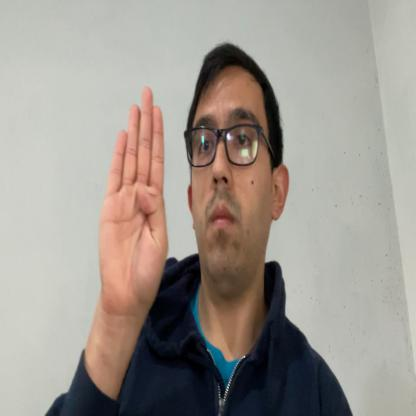B: (98, 86, 169, 318)
